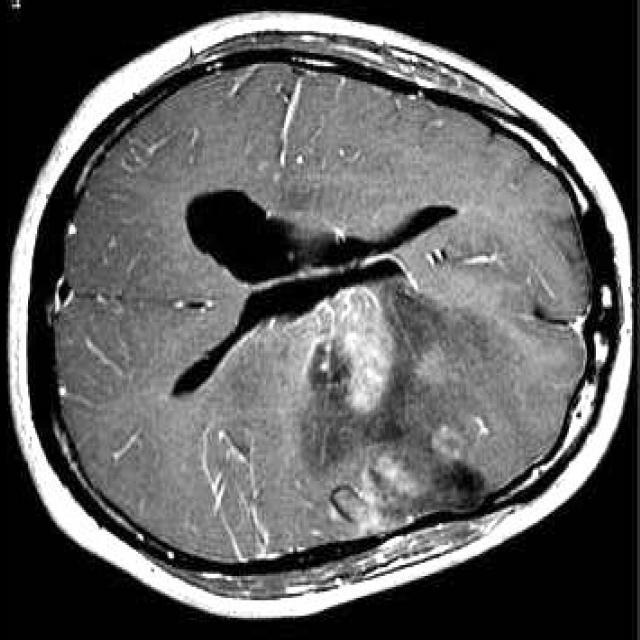tumor: (306, 282, 398, 437)
